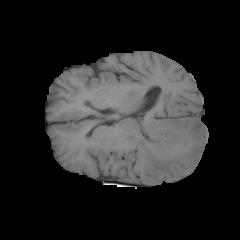glioma: (133, 118, 204, 179)
